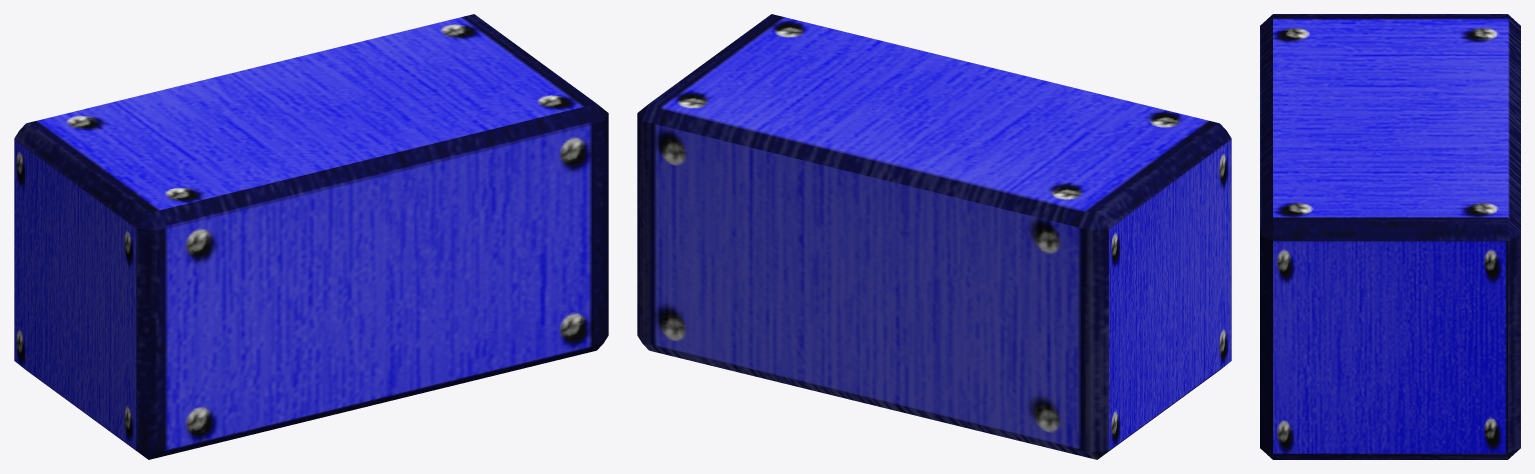
Rendered from Block_Blue_Medium.obj.
The picture shows the model from 3 angles, left to right: view 1: azimuth 30°, elevation 25°; view 2: azimuth 150°, elevation 25°; view 3: azimuth 270°, elevation 25°; orthographic projection. The views are drawn at different scales.
Parts seen in each view (by area): view 1: default; view 2: default; view 3: default.
Part boxes in pixels (x1,y1,x2,y2): default: (14, 14, 608, 459); default: (637, 14, 1231, 459); default: (1260, 14, 1520, 459).
Bounding box in the file's own units: 2 × 1 × 1.
